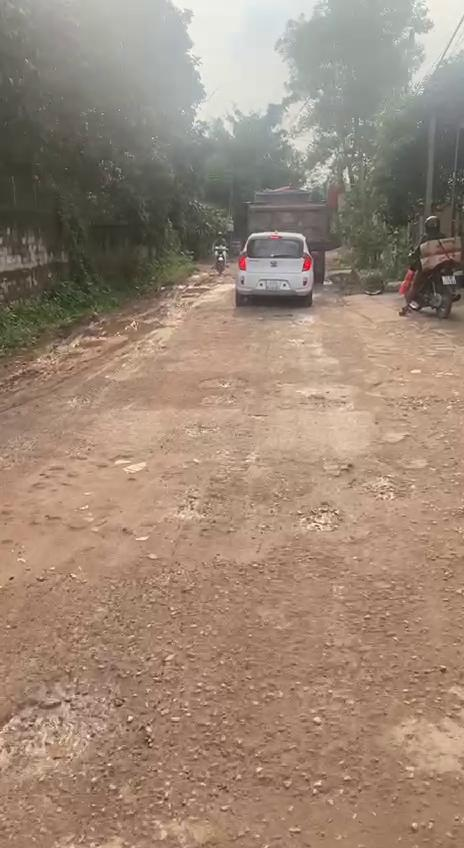pothole: (0, 652, 135, 806), (294, 507, 350, 536), (366, 471, 405, 502), (199, 373, 249, 391)
